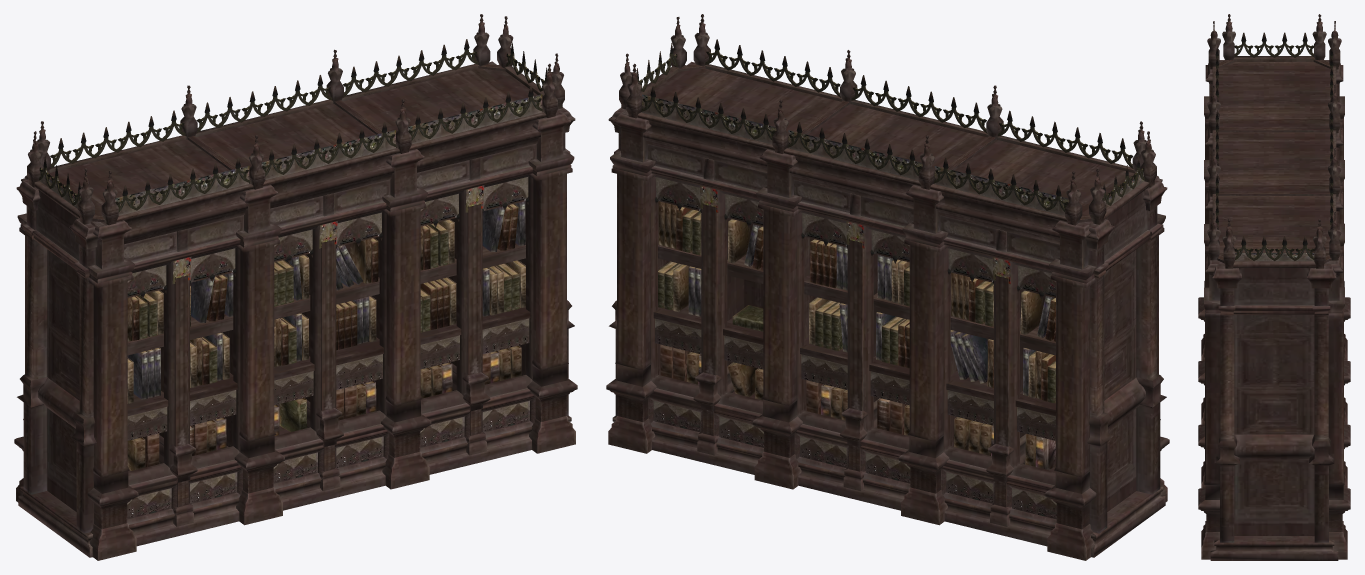
The model's file is AEG022_290out-transformed.glb.
The picture shows the model from 3 angles, left to right: view 1: azimuth 30°, elevation 25°; view 2: azimuth 150°, elevation 25°; view 3: azimuth 270°, elevation 25°; orthographic projection. The views are drawn at different scales.
Visible parts, largest first — view 1: default; view 2: default; view 3: default.
Boxes of the visible parts, box(x1,y1,x2,y2) form: default: box(14, 14, 577, 560); default: box(606, 14, 1169, 560); default: box(1198, 14, 1350, 560).
Bounding box in the file's own units: 3.81 × 2.81 × 1.15.
3 materials, 3 textured.
